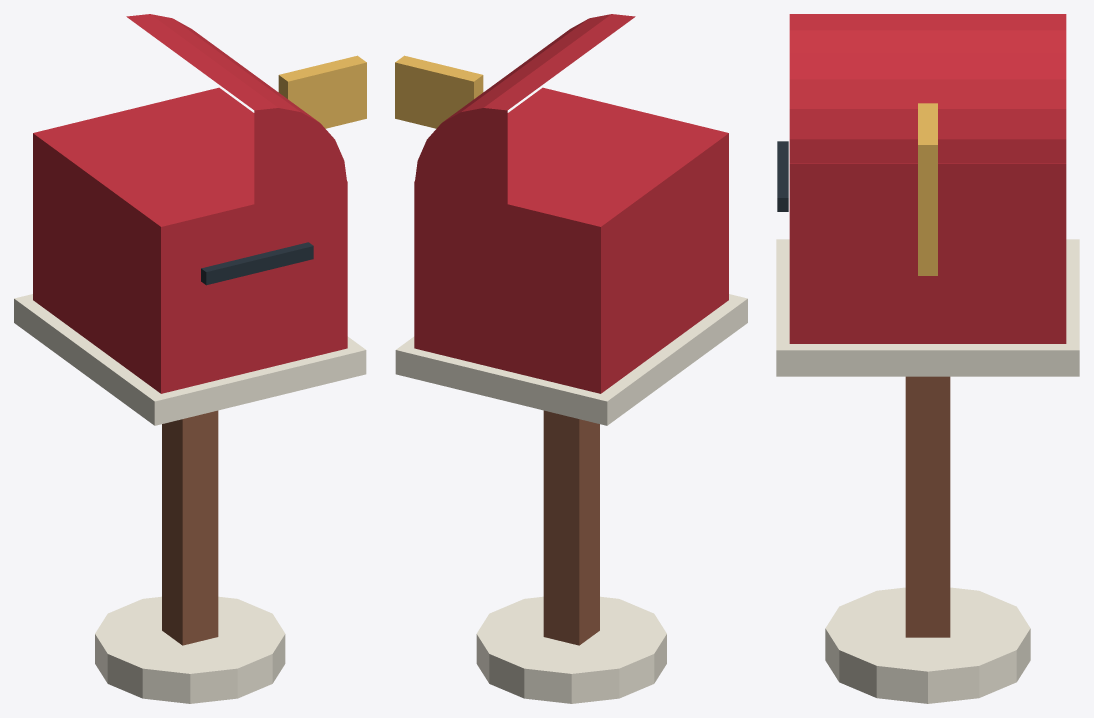
File: mailbox.glb
3 renders of one model, left to right at view 1: azimuth 30°, elevation 25°; view 2: azimuth 150°, elevation 25°; view 3: azimuth 270°, elevation 25°, orthographic. The views are drawn at different scales.
Parts seen in each view (by area): view 1: santa-mailbox; view 2: santa-mailbox; view 3: santa-mailbox.
Part boxes in pixels (left/top/right/bottom): santa-mailbox: left=14, top=14, right=366, bottom=703; santa-mailbox: left=395, top=14, right=747, bottom=703; santa-mailbox: left=776, top=14, right=1079, bottom=703.
Bounding box in the file's own units: 0.775 × 1.6 × 0.68.
